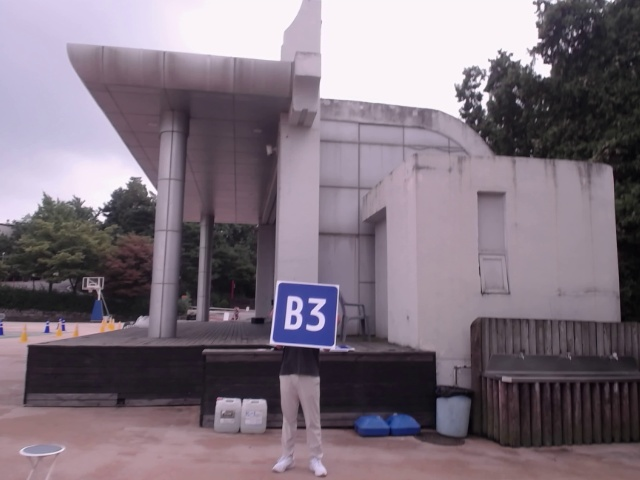delivery_b3: (274, 284, 338, 346)
